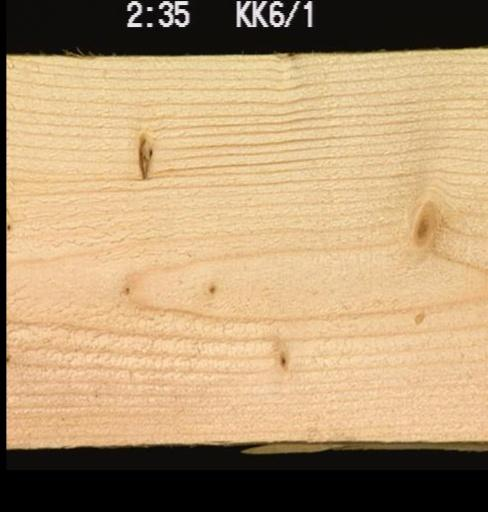small_knot: (269, 343, 298, 372), (200, 280, 222, 297), (6, 347, 14, 366), (6, 215, 14, 233)
sound_knot: (401, 201, 448, 248)
